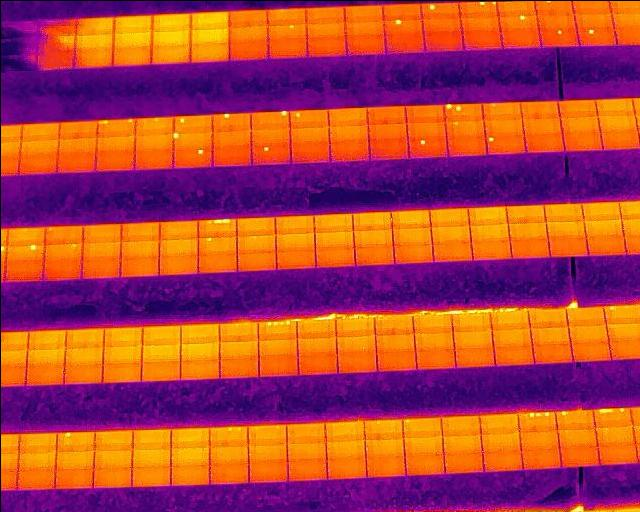Cell: (251, 142, 289, 163), (56, 430, 94, 451), (172, 147, 210, 167), (408, 138, 445, 158), (402, 417, 440, 436), (364, 419, 402, 438), (555, 410, 593, 429), (212, 113, 251, 131), (482, 102, 521, 120), (4, 243, 43, 261), (43, 242, 82, 260), (197, 235, 236, 253), (576, 28, 616, 45), (486, 136, 523, 154), (603, 305, 640, 323), (540, 28, 577, 46), (173, 115, 211, 132), (251, 110, 289, 127), (289, 110, 327, 127), (267, 24, 307, 40), (446, 120, 483, 137), (172, 132, 211, 148), (134, 117, 172, 133), (383, 17, 421, 33), (498, 14, 536, 30), (421, 3, 460, 17), (535, 0, 572, 13)
Cell-Multi: (209, 426, 247, 446), (257, 320, 296, 339), (518, 412, 556, 431), (96, 119, 134, 137), (444, 103, 481, 121), (459, 0, 497, 16)
No-Anomaly: (17, 152, 58, 174), (180, 357, 220, 378), (4, 261, 43, 282), (58, 149, 95, 171), (112, 46, 152, 66), (248, 460, 286, 481), (306, 35, 344, 56), (63, 364, 102, 384), (219, 357, 258, 377), (258, 355, 297, 375), (337, 352, 376, 372), (16, 468, 55, 488), (212, 145, 251, 165), (170, 427, 209, 447), (247, 424, 286, 444), (27, 330, 66, 350), (64, 328, 103, 348), (120, 256, 159, 276), (354, 244, 393, 264), (432, 240, 471, 260), (586, 235, 625, 255), (483, 450, 522, 470), (560, 446, 599, 466), (297, 354, 337, 373), (133, 148, 171, 168), (291, 142, 329, 162), (330, 140, 368, 160), (94, 430, 132, 450), (519, 429, 557, 449), (286, 422, 324, 442), (479, 413, 517, 433), (228, 42, 268, 61), (266, 40, 306, 59), (345, 34, 385, 53), (444, 451, 482, 471), (522, 448, 560, 468), (598, 444, 636, 464), (24, 366, 63, 385), (102, 362, 141, 381), (141, 361, 180, 380), (415, 349, 454, 368), (376, 351, 415, 370), (455, 347, 494, 366), (131, 467, 170, 486), (17, 433, 56, 452), (325, 420, 364, 439), (142, 325, 181, 344), (219, 322, 258, 341), (159, 255, 198, 274), (315, 247, 354, 266), (393, 243, 432, 262), (471, 240, 510, 259), (159, 237, 198, 256), (548, 236, 587, 255), (120, 221, 159, 240), (159, 219, 198, 238), (287, 461, 326, 480), (326, 458, 365, 477), (189, 43, 228, 62), (112, 30, 151, 49), (75, 15, 114, 34), (16, 451, 55, 470), (55, 451, 94, 470), (170, 446, 209, 465), (369, 139, 406, 159), (533, 344, 571, 363), (314, 213, 352, 232), (54, 469, 92, 488), (95, 150, 133, 169), (447, 137, 485, 156), (209, 463, 247, 482), (328, 106, 366, 125), (326, 440, 364, 459), (365, 438, 403, 457), (404, 435, 442, 454), (443, 433, 481, 452), (132, 430, 170, 449), (557, 428, 595, 447), (441, 416, 479, 435), (595, 426, 633, 445), (42, 261, 80, 280), (82, 223, 120, 242), (424, 32, 462, 51), (405, 454, 443, 473), (63, 346, 103, 364), (352, 211, 392, 229), (297, 336, 337, 354), (353, 228, 393, 246), (150, 45, 190, 63), (73, 33, 113, 51), (500, 30, 540, 48), (26, 348, 65, 366), (583, 219, 622, 237), (391, 210, 430, 228), (92, 469, 131, 487), (170, 466, 209, 484), (562, 133, 601, 151), (57, 120, 96, 138), (366, 105, 405, 123), (247, 443, 286, 461), (287, 442, 326, 460), (570, 342, 609, 360), (180, 341, 219, 359), (453, 329, 492, 347), (103, 327, 142, 345), (335, 318, 374, 336), (374, 316, 413, 334), (197, 253, 236, 271), (237, 252, 276, 270), (120, 239, 159, 257), (275, 232, 314, 250), (43, 225, 82, 243), (73, 50, 112, 68), (385, 34, 424, 52), (113, 15, 152, 33), (93, 450, 132, 468), (494, 346, 532, 364), (236, 216, 274, 234), (468, 206, 506, 224), (524, 134, 562, 152), (368, 122, 406, 140), (406, 121, 444, 139), (481, 432, 519, 450), (492, 328, 530, 346), (181, 324, 219, 342), (81, 260, 119, 278), (82, 241, 120, 259), (510, 240, 548, 258), (366, 458, 404, 476), (463, 31, 501, 49), (151, 13, 189, 31), (209, 446, 247, 464), (328, 123, 368, 140), (559, 116, 599, 133), (258, 339, 298, 356), (567, 325, 607, 342), (594, 98, 634, 115), (601, 131, 638, 149), (405, 104, 442, 122), (102, 345, 141, 362), (275, 215, 314, 232), (429, 209, 468, 226), (506, 206, 545, 223), (582, 203, 621, 220), (211, 129, 250, 146), (20, 122, 59, 139), (141, 344, 180, 361), (219, 341, 258, 358), (336, 336, 375, 353), (375, 333, 414, 350), (414, 332, 453, 349), (530, 326, 569, 343), (412, 315, 451, 332), (451, 313, 490, 330), (314, 230, 353, 247), (5, 226, 44, 243), (190, 11, 229, 28), (228, 9, 267, 26), (267, 7, 306, 24), (131, 450, 170, 467), (484, 119, 522, 136), (297, 320, 335, 337), (490, 311, 528, 328), (528, 309, 566, 326), (566, 308, 604, 325), (276, 251, 314, 268), (236, 235, 274, 252), (392, 227, 430, 244), (558, 100, 596, 117), (544, 204, 583, 220), (95, 136, 134, 152), (134, 134, 173, 150), (430, 226, 469, 242), (470, 224, 509, 240), (151, 30, 190, 46), (228, 26, 267, 42), (345, 18, 384, 34), (421, 16, 460, 32), (383, 3, 422, 19), (522, 117, 558, 134), (290, 126, 328, 142), (520, 101, 558, 117), (508, 223, 546, 239), (306, 6, 344, 22), (597, 115, 637, 130), (460, 16, 500, 31), (496, 0, 536, 15), (545, 221, 584, 236), (19, 138, 58, 153), (190, 29, 229, 44), (56, 136, 97, 150), (251, 128, 289, 143), (536, 13, 574, 28), (605, 324, 640, 340), (344, 5, 383, 19), (307, 22, 344, 36), (575, 13, 612, 27)
Shadowing: (0, 18, 38, 37), (38, 17, 76, 36), (0, 53, 37, 72), (36, 52, 73, 70), (0, 37, 38, 53), (38, 36, 74, 52)
Unclassified: (593, 407, 632, 427), (197, 219, 236, 237)
